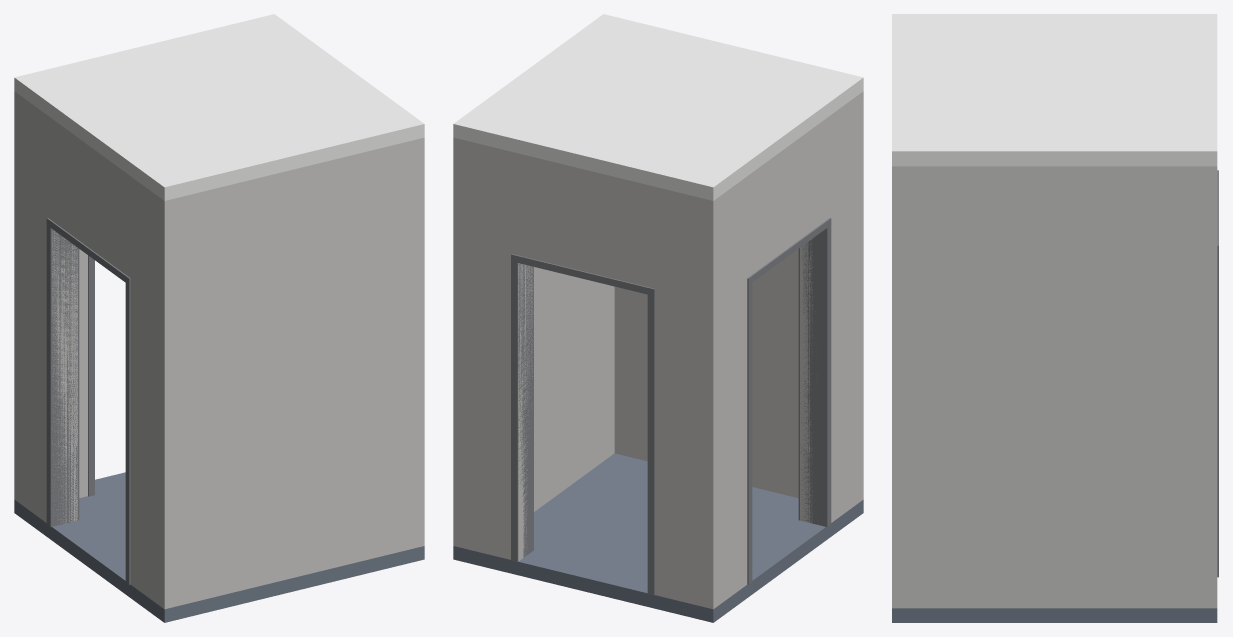
The picture shows the model from 3 angles, left to right: view 1: azimuth 30°, elevation 25°; view 2: azimuth 150°, elevation 25°; view 3: azimuth 270°, elevation 25°; orthographic projection. The views are drawn at different scales.
Visible parts, largest first — view 1: Wall_S, Ceiling, Wall_W, Frames_W, Floor, Wall_N, Frames_N; view 2: Wall_N, Ceiling, Wall_W, Wall_S, Floor, Wall_E, Frames_W, Frames_N; view 3: Wall_E, Ceiling, Wall_N, Wall_S, Floor, Frames_N.
Part boxes in pixels (left/top/right/bottom): Wall_S: left=149, top=137, right=424, bottom=609; Ceiling: left=14, top=14, right=424, bottom=200; Wall_W: left=29, top=102, right=149, bottom=597; Frames_W: left=46, top=218, right=130, bottom=584; Floor: left=14, top=472, right=424, bottom=622; Wall_N: left=14, top=91, right=87, bottom=509; Frames_N: left=88, top=255, right=94, bottom=496; Wall_N: left=453, top=137, right=728, bottom=609; Ceiling: left=453, top=14, right=863, bottom=200; Wall_W: left=728, top=102, right=848, bottom=597; Wall_S: left=614, top=91, right=863, bottom=509; Floor: left=453, top=453, right=863, bottom=622; Wall_E: left=534, top=267, right=614, bottom=511; Frames_W: left=747, top=218, right=831, bottom=584; Frames_N: left=511, top=254, right=654, bottom=595; Wall_E: left=924, top=166, right=1184, bottom=608; Ceiling: left=892, top=14, right=1217, bottom=166; Wall_N: left=1184, top=166, right=1217, bottom=608; Wall_S: left=892, top=166, right=924, bottom=608; Floor: left=892, top=608, right=1217, bottom=622; Frames_N: left=1217, top=170, right=1218, bottom=577.
Bounding box in the file's own units: 2.01 × 3.2 × 2.01.
